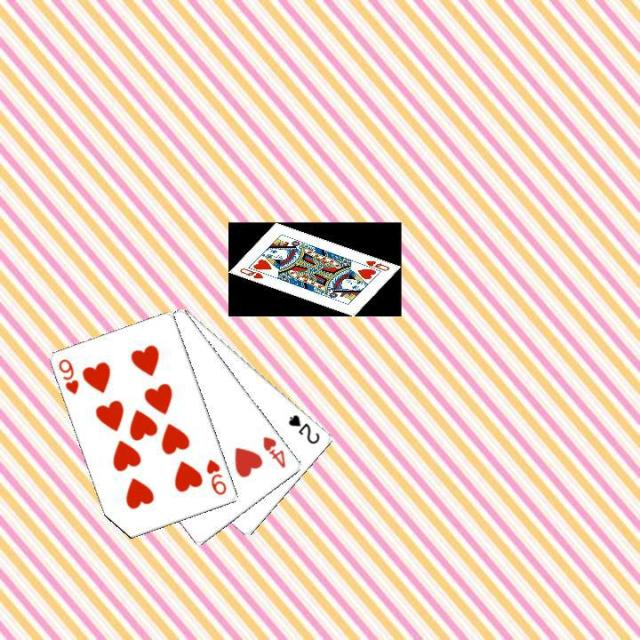2S: (284, 411, 322, 446)
4H: (260, 433, 288, 470)
9H: (202, 455, 228, 497), (55, 354, 81, 396)
